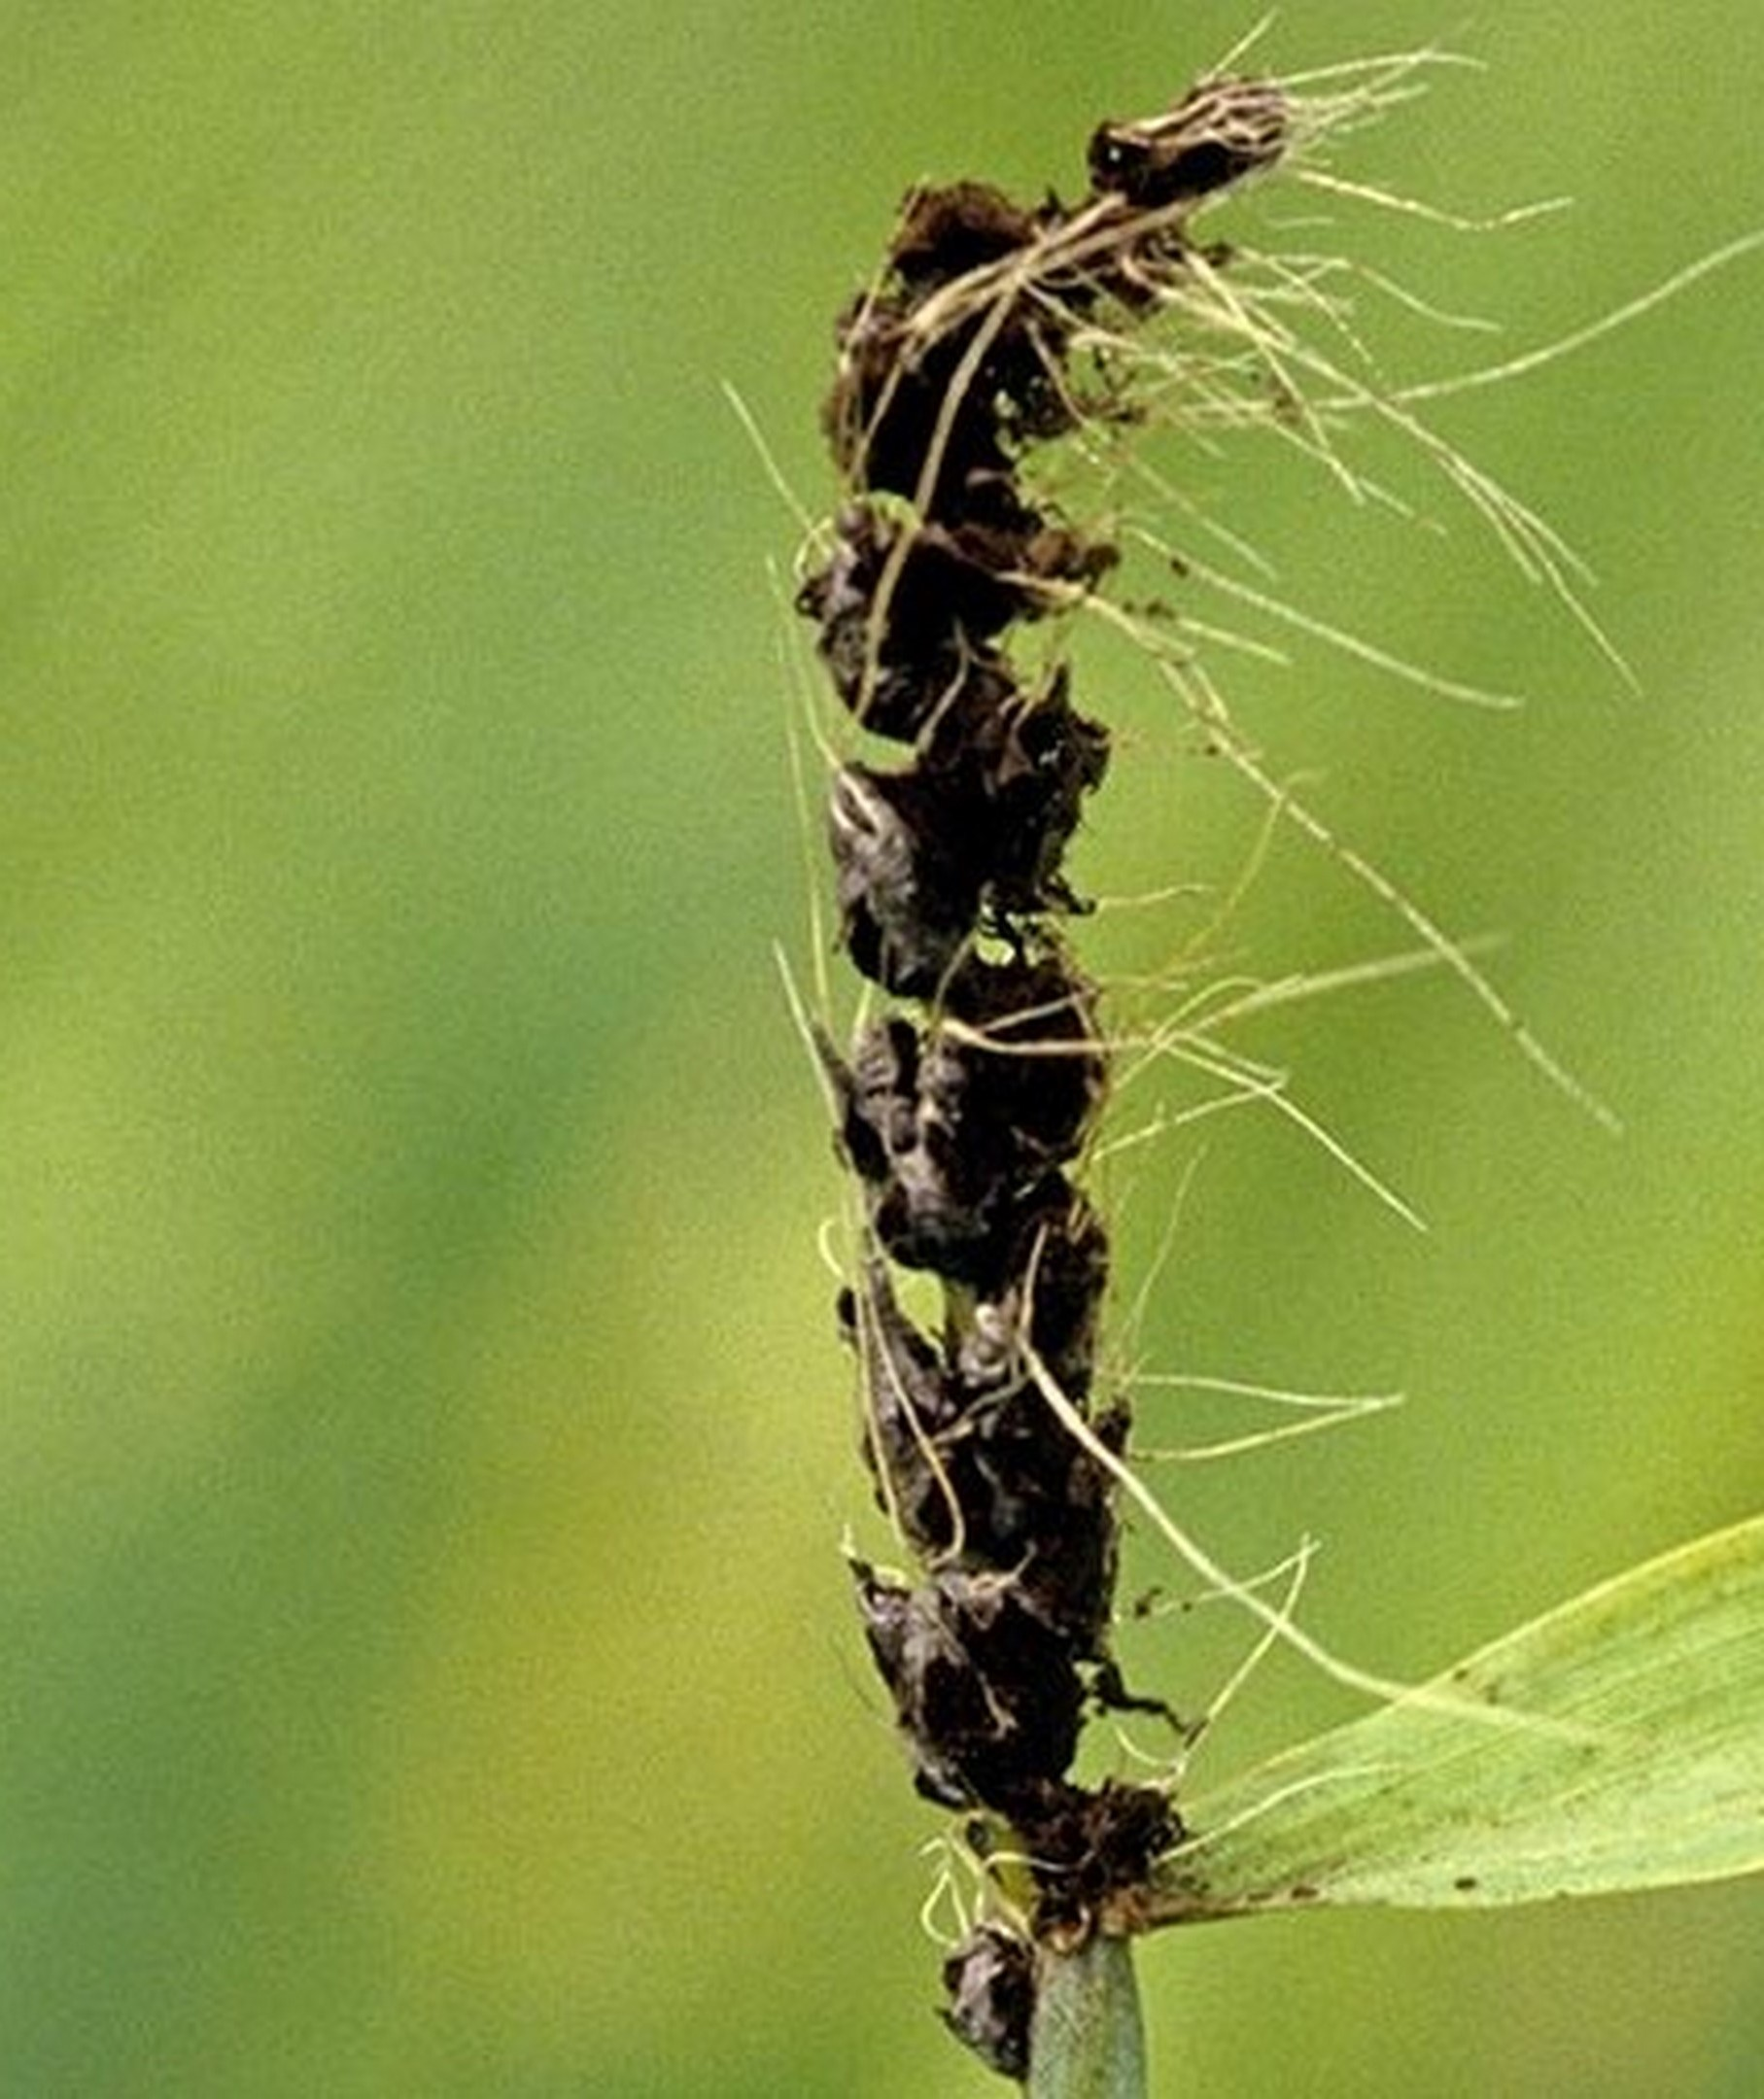Wheat Loose Smut: (709, 100, 1277, 1835)
